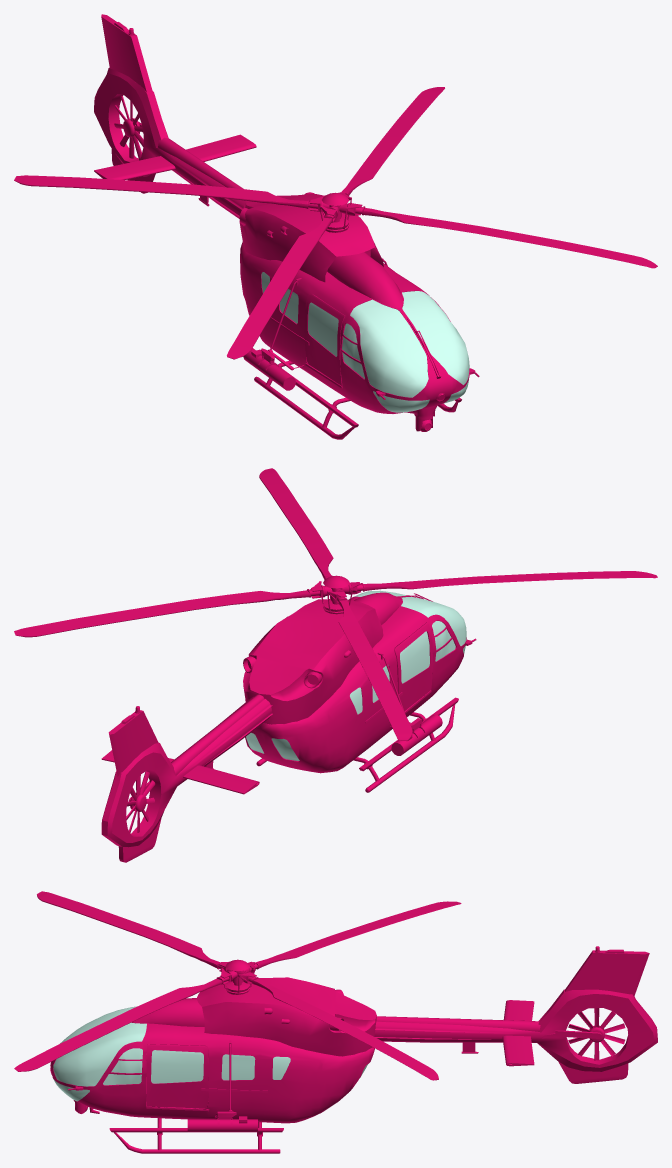
File: Airbus h145.fbx
3 views of the same model, one above another, from view 1: azimuth 30°, elevation 25°; view 2: azimuth 150°, elevation 25°; view 3: azimuth 270°, elevation 25° (orthographic). The views are drawn at different scales.
Visible parts, largest first — view 1: Body, Propeller, Door2, Rear_Propeller; view 2: Body, Propeller, Door2, Rear_Propeller; view 3: Body, Propeller, Door, Rear_Propeller.
Boxes of the visible parts, x1=… form: Body: x1=94, y1=14, x2=479, y2=439; Propeller: x1=14, y1=87, x2=657, y2=359; Door2: x1=299, y1=293, x2=344, y2=385; Rear_Propeller: x1=114, y1=96, x2=143, y2=159; Body: x1=101, y1=575, x2=476, y2=862; Propeller: x1=14, y1=468, x2=657, y2=740; Door2: x1=394, y1=622, x2=432, y2=711; Rear_Propeller: x1=126, y1=771, x2=155, y2=832; Body: x1=50, y1=946, x2=657, y2=1153; Propeller: x1=14, y1=891, x2=461, y2=1080; Door: x1=146, y1=1044, x2=216, y2=1108; Rear_Propeller: x1=568, y1=1008, x2=625, y2=1060.
Bounding box in the file's own units: 728 × 328 × 1047.
